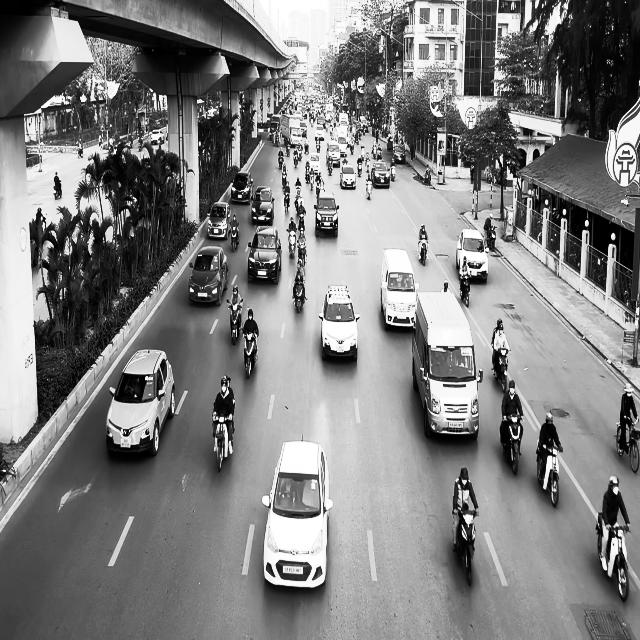car: (262, 435, 333, 589), (106, 348, 176, 457), (380, 248, 420, 330), (319, 284, 360, 361), (188, 246, 229, 306), (247, 226, 282, 284), (456, 228, 489, 282), (314, 190, 340, 238), (251, 186, 275, 226), (208, 202, 232, 239), (231, 172, 254, 204), (372, 161, 390, 188), (340, 164, 357, 189)
motorbike: (596, 512, 631, 602), (453, 507, 479, 587), (536, 439, 563, 507), (212, 408, 235, 472), (501, 413, 524, 475), (616, 416, 640, 473), (492, 344, 511, 393), (242, 328, 258, 378), (227, 297, 243, 345), (293, 281, 306, 312), (460, 273, 470, 307), (418, 237, 429, 266), (486, 225, 497, 251), (230, 224, 240, 251), (366, 177, 373, 199), (54, 180, 62, 199), (390, 164, 396, 182)
truck: (412, 291, 484, 440)
